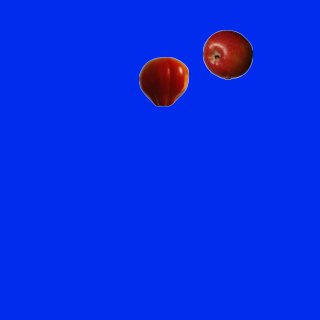Apple Braeburn: (202, 29, 252, 79)
Tomato 1: (138, 56, 188, 106)
